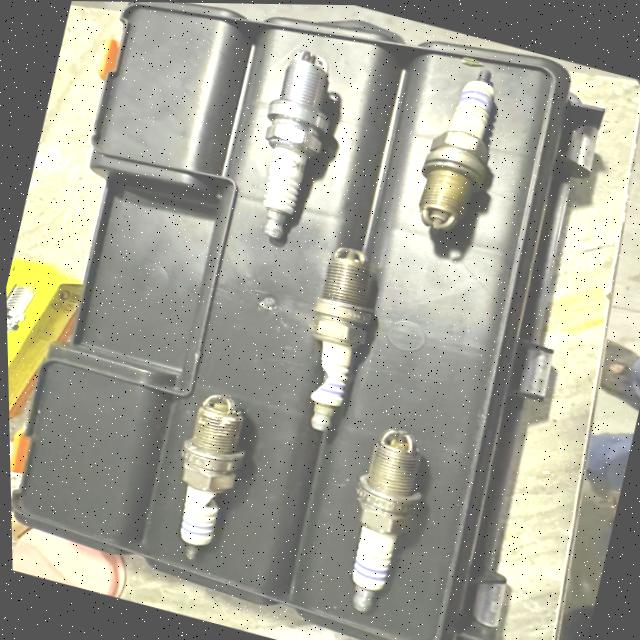damaged_spark-plug: (281, 234, 385, 438), (152, 382, 259, 576)
spark-plug: (316, 422, 436, 630), (402, 53, 512, 248), (241, 42, 338, 247)
